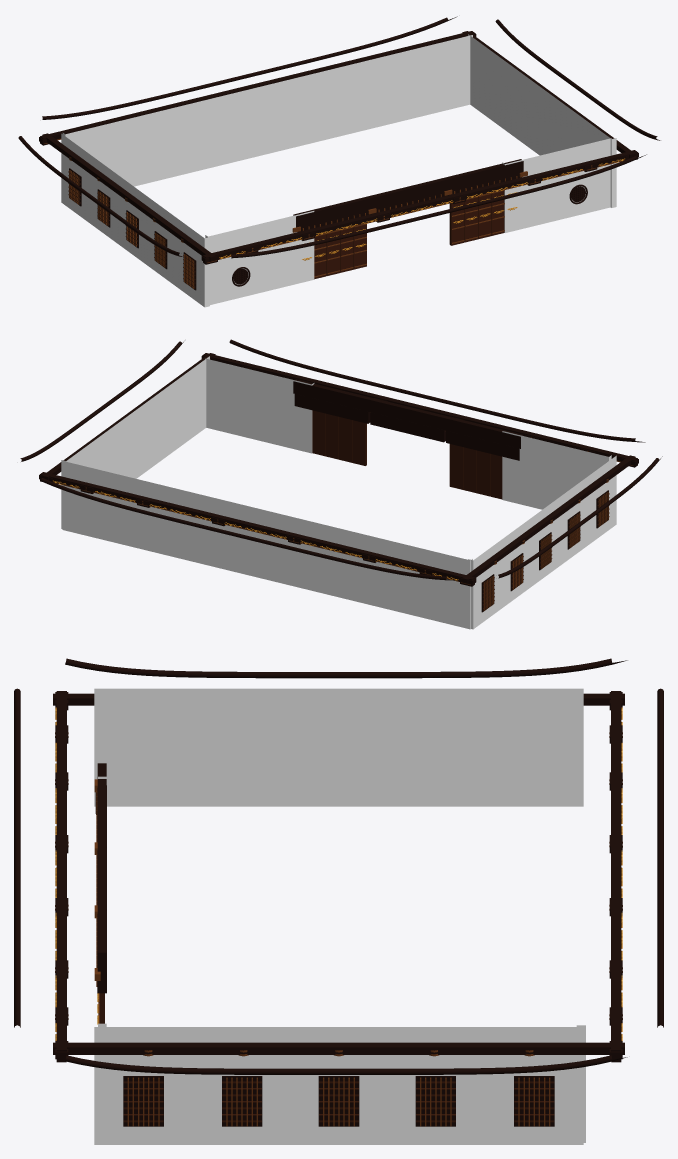
Rendered from tam-the-facade.glb.
3 renders of one model, top to bottom at view 1: azimuth 30°, elevation 25°; view 2: azimuth 150°, elevation 25°; view 3: azimuth 270°, elevation 25°, orthographic. The views are drawn at different scales.
Visible parts, largest first — view 1: Exterior_3, Exterior_6, Exterior_8, Exterior_7, Exterior_9, Exterior_10; view 2: Exterior_3, Exterior_6, Exterior_8, Exterior_7; view 3: Exterior_3, Exterior_6, Exterior_7, Exterior_8, Exterior_9.
Part boxes in pixels (x1,y1,x2,y2): Exterior_3: (61, 34, 616, 307); Exterior_6: (18, 16, 660, 290); Exterior_8: (68, 171, 504, 287); Exterior_7: (44, 138, 624, 288); Exterior_9: (219, 158, 624, 260); Exterior_10: (220, 159, 623, 259); Exterior_3: (61, 356, 616, 629); Exterior_6: (20, 339, 662, 612); Exterior_8: (312, 410, 609, 609); Exterior_7: (53, 368, 633, 610); Exterior_3: (94, 688, 585, 1144); Exterior_6: (14, 658, 663, 1126); Exterior_7: (55, 732, 622, 1126); Exterior_8: (99, 993, 554, 1122); Exterior_9: (55, 707, 622, 1040).
Size of the model in its own units: 59.52 by 8.19 by 40.92.
